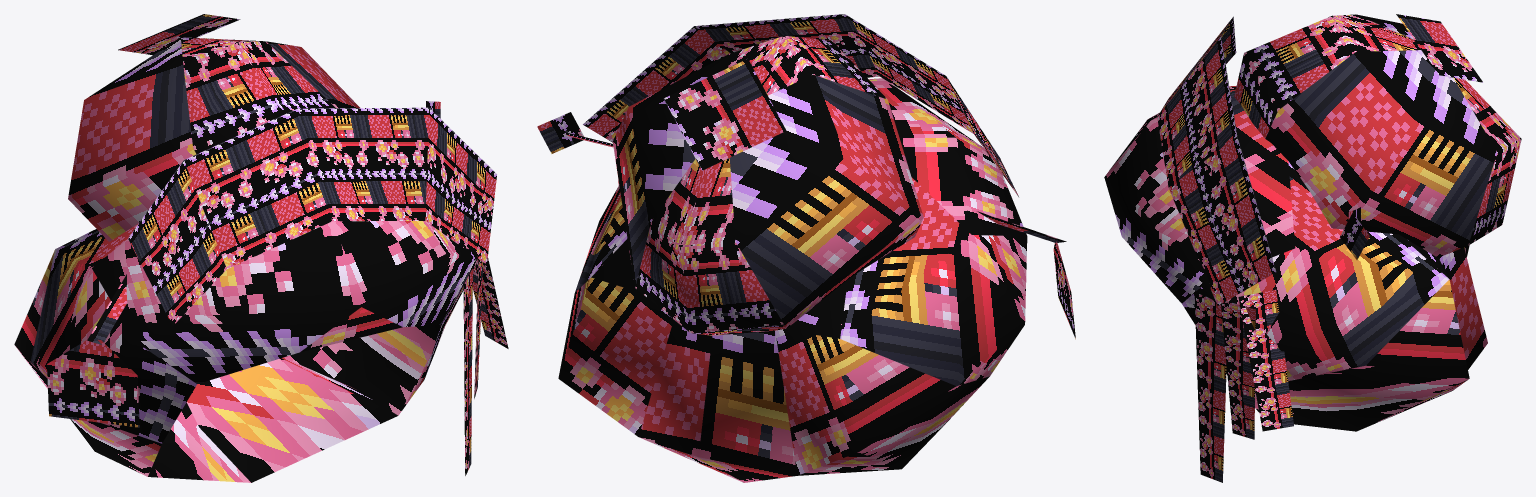
Rendered from code_head71.gltf.
The picture shows the model from 3 angles, left to right: view 1: azimuth 30°, elevation 25°; view 2: azimuth 150°, elevation 25°; view 3: azimuth 270°, elevation 25°; orthographic projection. The views are drawn at different scales.
Visible parts, largest first — view 1: code_head71; view 2: code_head71; view 3: code_head71.
Boxes of the visible parts, left/top/right/bottom form: code_head71: left=14, top=14, right=508, bottom=482; code_head71: left=537, top=14, right=1075, bottom=482; code_head71: left=1104, top=14, right=1521, bottom=482.
Size of the model in its own units: 0.9609 by 0.8455 by 0.7976.
1 material, 1 textured.
